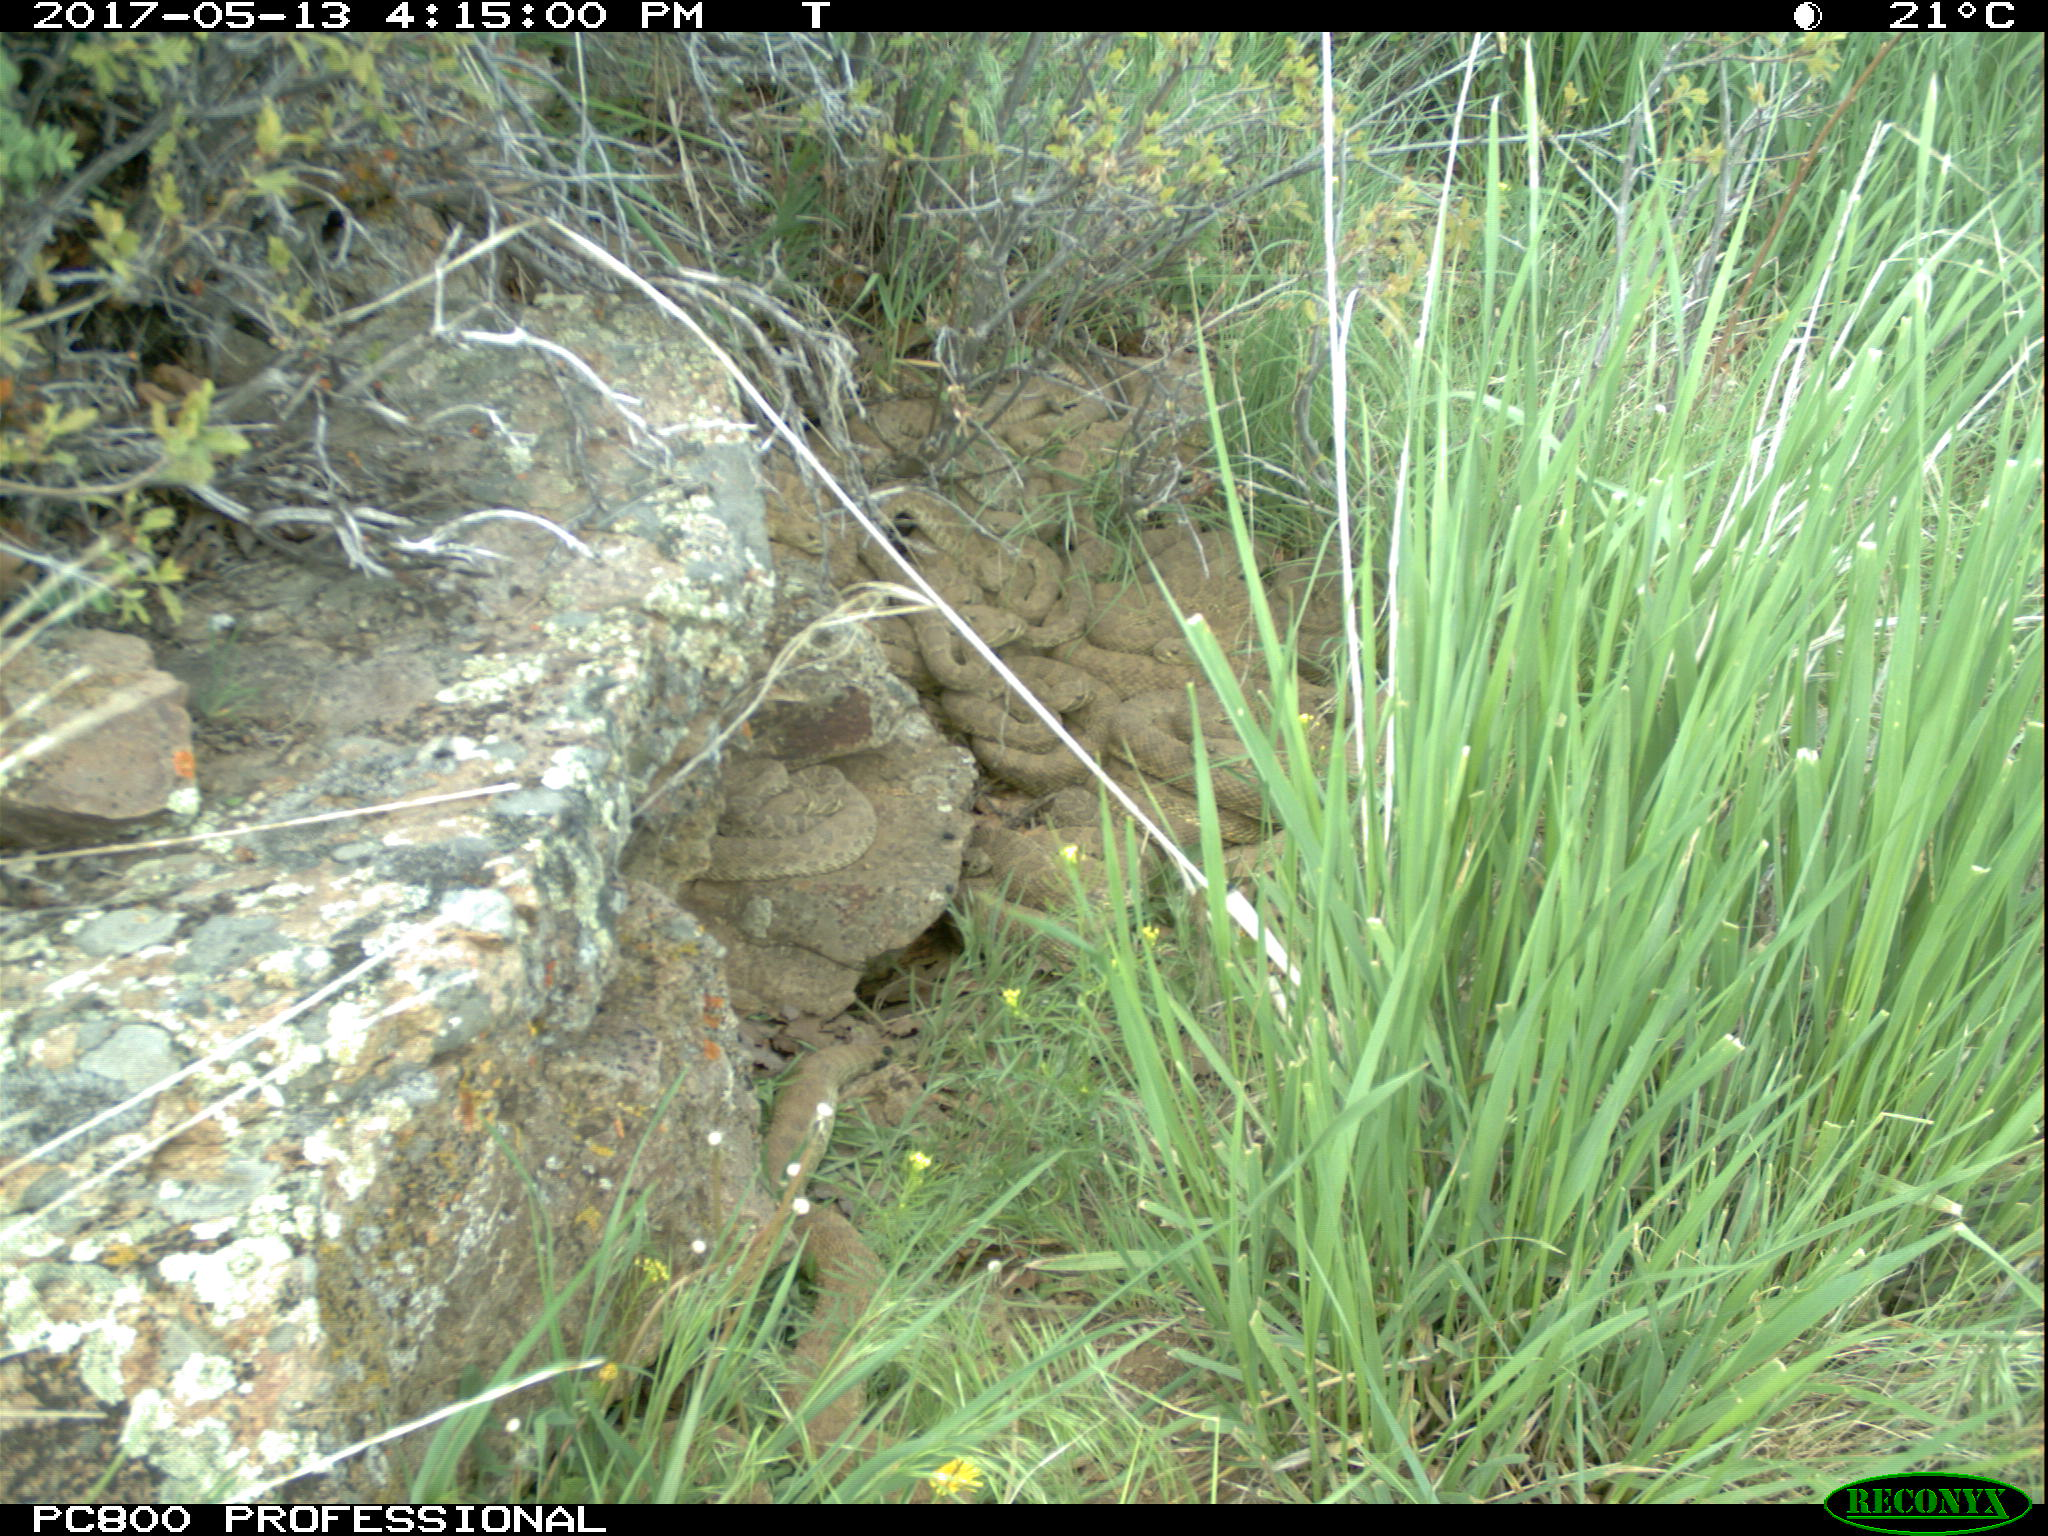snake: (1092, 523, 1371, 687), (861, 482, 1089, 665), (1109, 684, 1326, 839), (769, 1016, 877, 1229), (927, 644, 1098, 771), (797, 1229, 884, 1471), (698, 763, 880, 874), (984, 365, 1132, 490), (832, 384, 948, 473), (761, 505, 834, 560)
